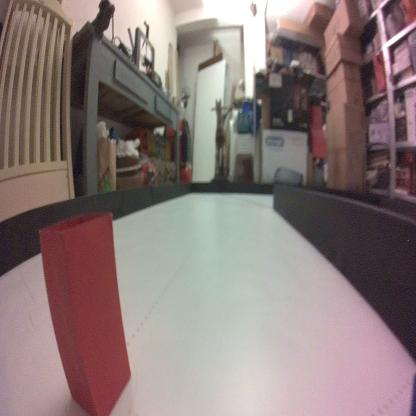red: (37, 209, 133, 416)
